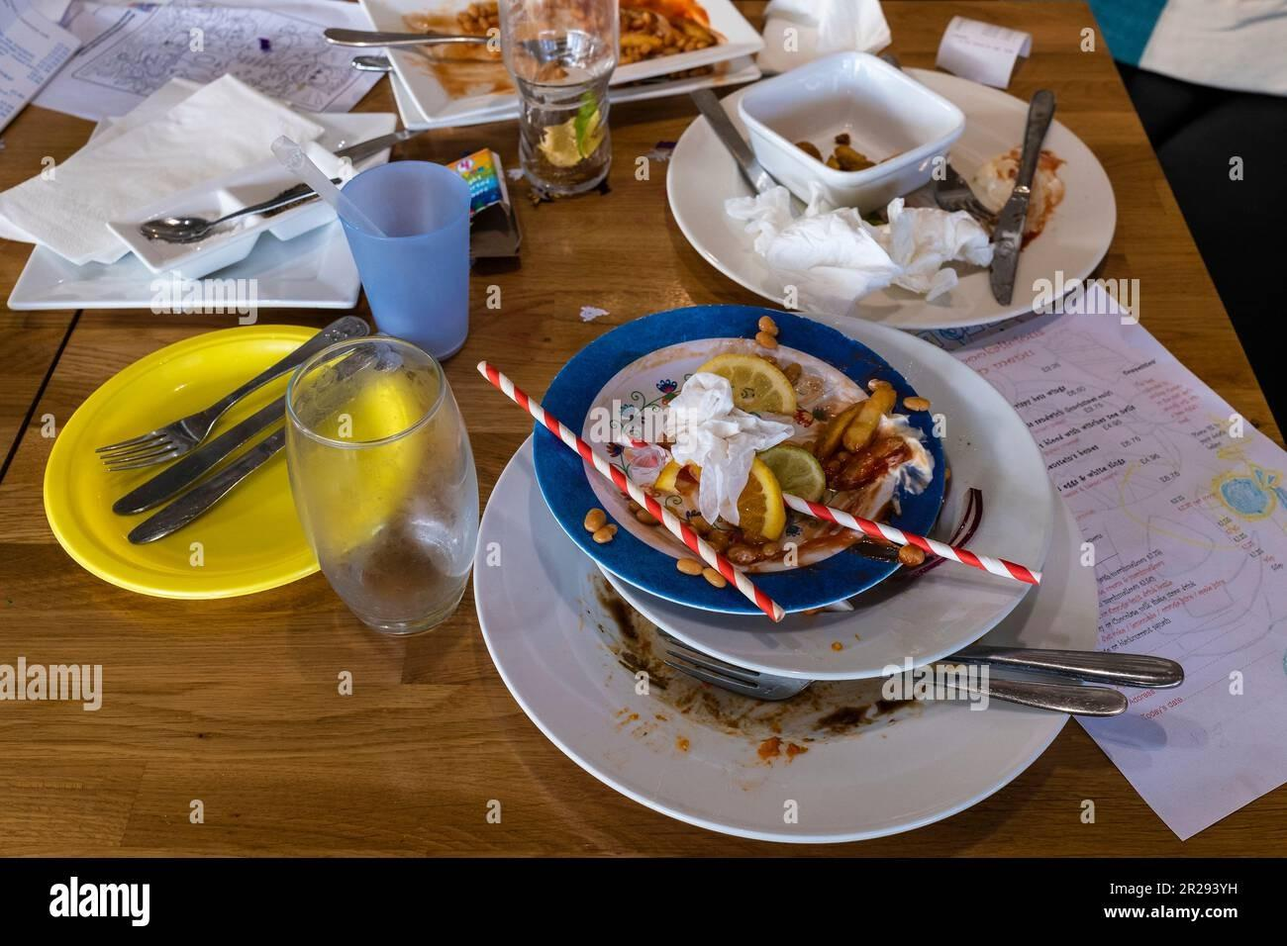Messy Table: (6, 1, 1283, 847)
